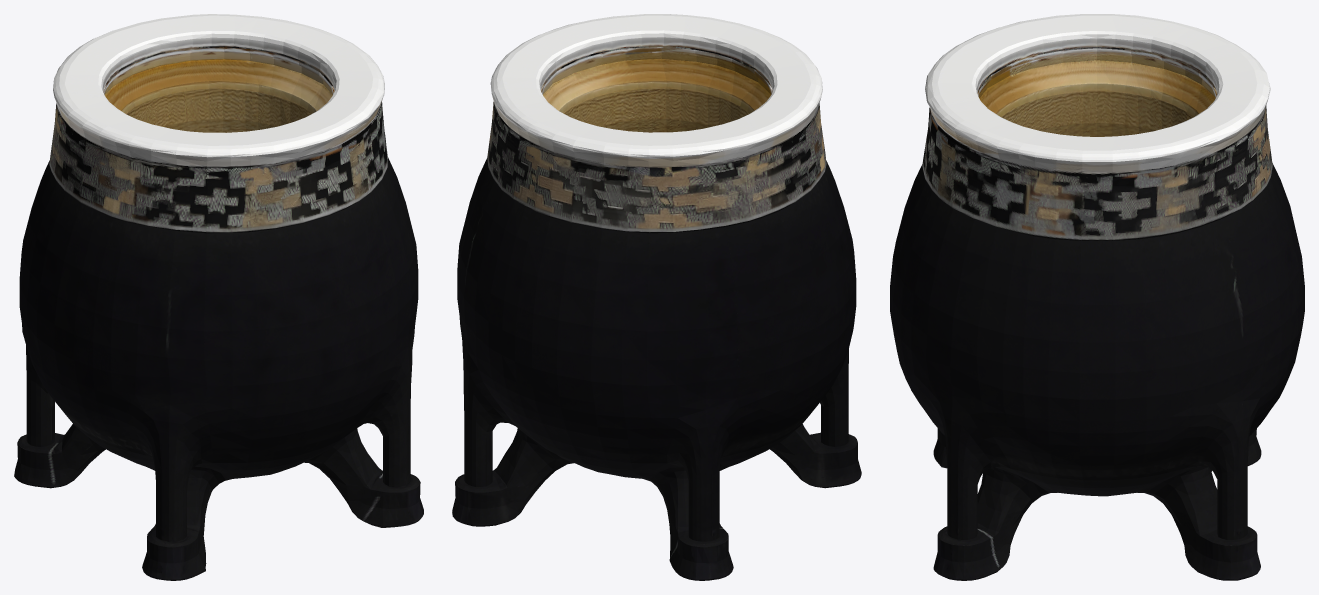
File: mate.glb
3 renders of one model, left to right at view 1: azimuth 30°, elevation 25°; view 2: azimuth 150°, elevation 25°; view 3: azimuth 270°, elevation 25°, orthographic. The views are drawn at different scales.
Size of the model in its own units: 1.67 by 1.91 by 1.67.
Materials: 1 (1 with a texture image).
